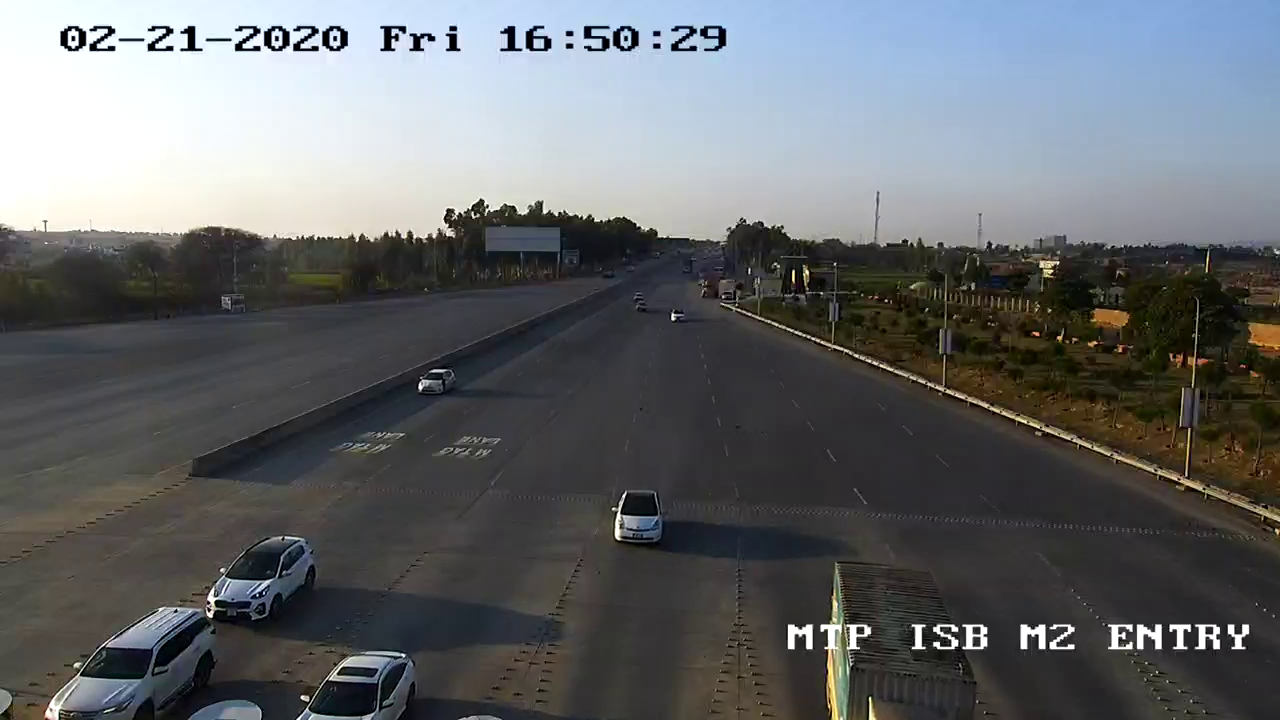f1: (35, 608, 235, 720), (194, 528, 332, 632), (604, 477, 674, 552)
